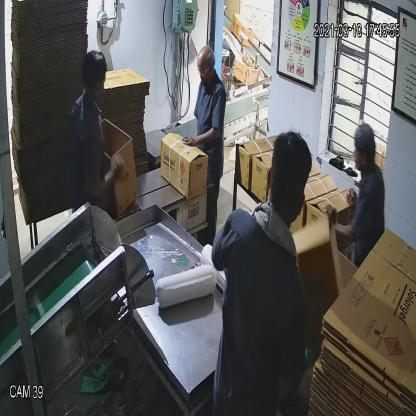no_glove: (321, 185, 361, 254), (82, 147, 124, 201), (182, 114, 220, 156)
